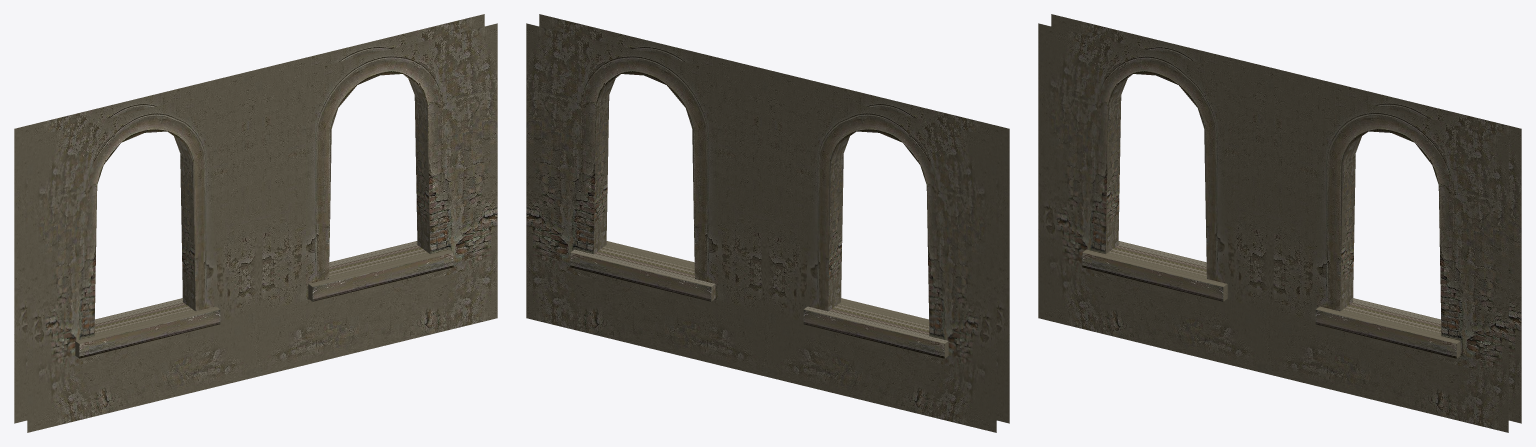
Rendered from fenster_durch.obj.
3 renders of one model, left to right at view 1: azimuth 30°, elevation 25°; view 2: azimuth 150°, elevation 25°; view 3: azimuth 330°, elevation 25°, orthographic.
Parts seen in each view (by area): view 1: polySurface148; view 2: polySurface148; view 3: polySurface148.
Part boxes in pixels (x1=…): polySurface148: x1=14, y1=14, x2=497, y2=432; polySurface148: x1=526, y1=14, x2=1009, y2=432; polySurface148: x1=1038, y1=14, x2=1521, y2=432.
Bounding box in the file's own units: 2 × 1.2 × 0.1556.
Materials: 1 (1 with a texture image).
